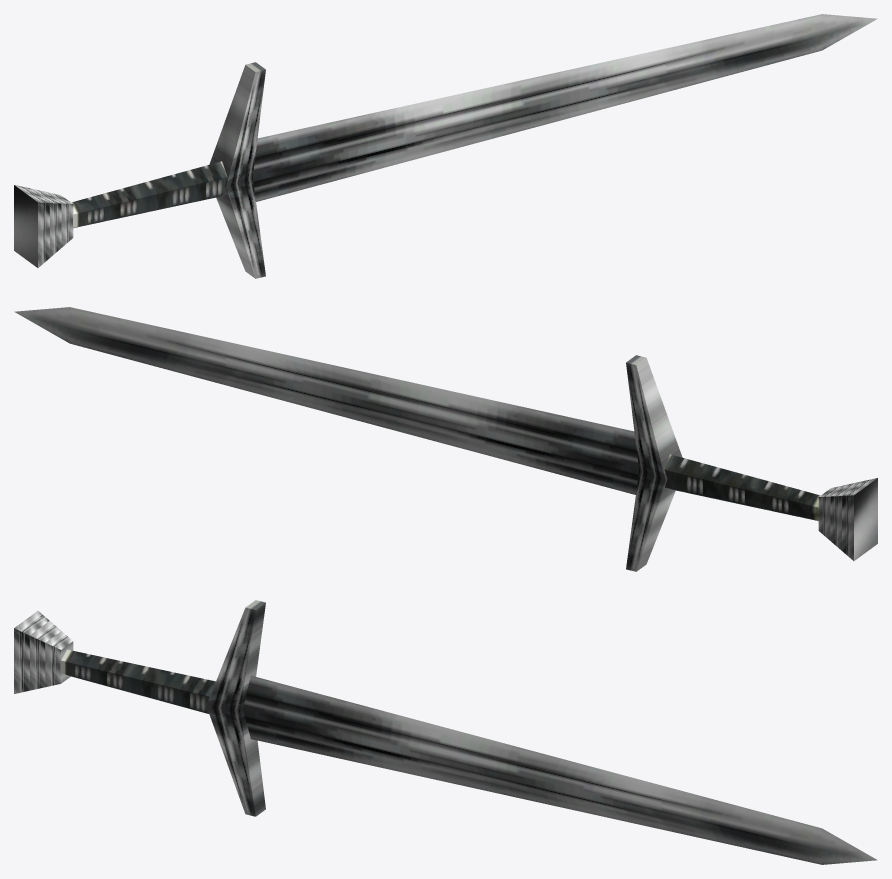
3 views of the same model, one above another, from view 1: azimuth 30°, elevation 25°; view 2: azimuth 150°, elevation 25°; view 3: azimuth 330°, elevation 25° (orthographic).
Visible parts, largest first — view 1: it10652; view 2: it10652; view 3: it10652.
Part boxes in pixels (x1=…): it10652: x1=14, y1=14, x2=877, y2=278; it10652: x1=14, y1=307, x2=877, y2=571; it10652: x1=14, y1=600, x2=877, y2=864.
Bounding box in the file's own units: 3.14 × 0.7286 × 0.1536.
2 materials, 2 textured.
